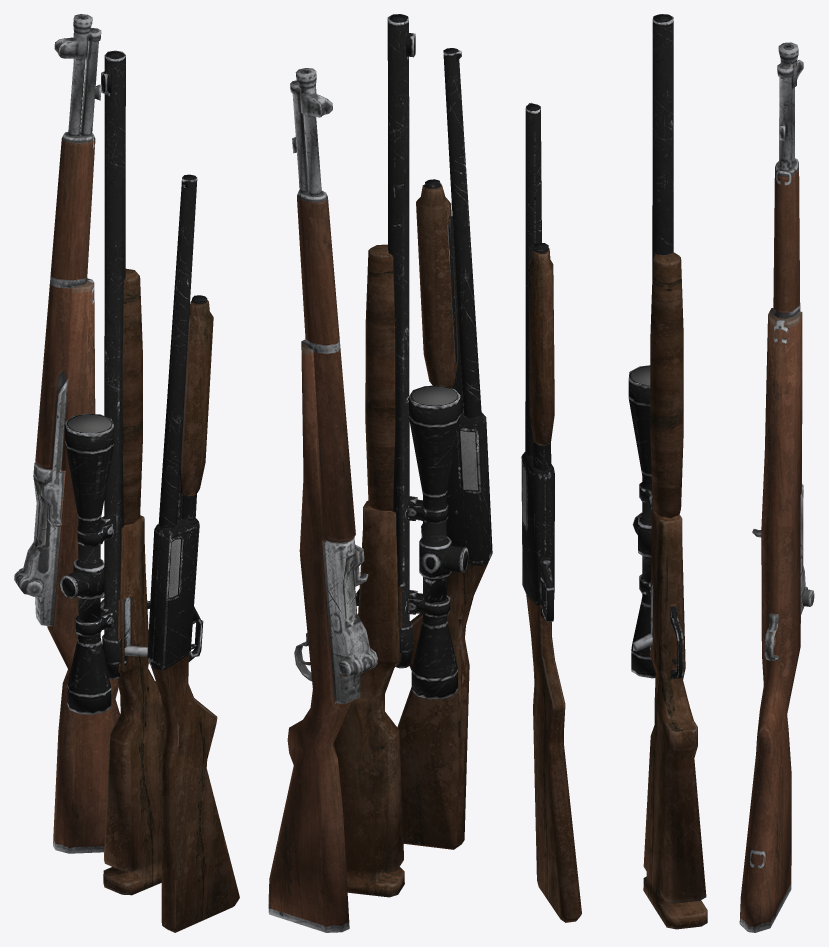
Rendered from SM_GunRiflesA.FBX.
The picture shows the model from 3 angles, left to right: view 1: azimuth 30°, elevation 25°; view 2: azimuth 150°, elevation 25°; view 3: azimuth 270°, elevation 25°; orthographic projection. The views are drawn at different scales.
Parts seen in each view (by area): view 1: SM_RifleGroupA; view 2: SM_RifleGroupA; view 3: SM_RifleGroupA.
Part boxes in pixels (x1,y1,x2,y2): SM_RifleGroupA: (14, 14, 239, 932); SM_RifleGroupA: (268, 14, 492, 932); SM_RifleGroupA: (521, 14, 814, 932).
Bounding box in the file's own units: 20.05 × 114 × 34.55.
